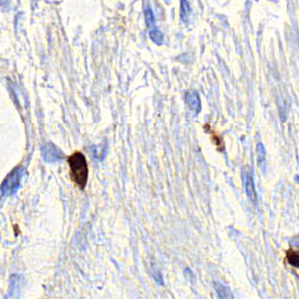Lymphocyte: (65, 149, 93, 190)
